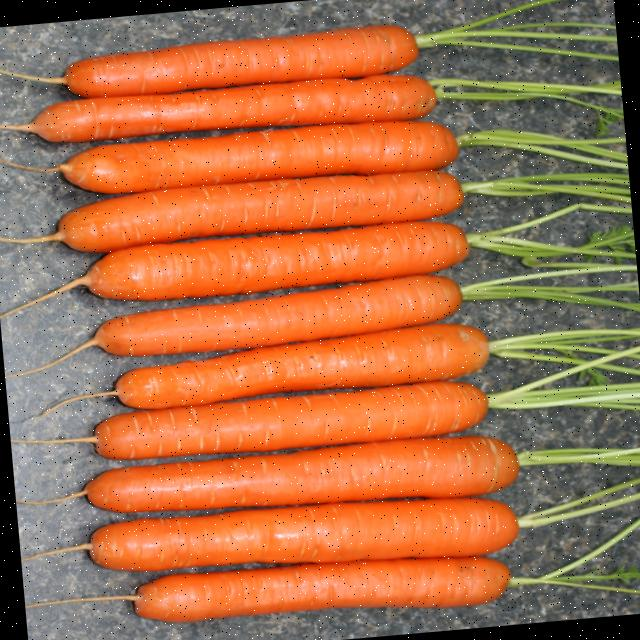carrot: (6, 275, 461, 377), (0, 221, 468, 316), (40, 323, 488, 414), (19, 436, 518, 512), (0, 170, 462, 252), (11, 381, 487, 459), (24, 497, 518, 570), (0, 121, 457, 193), (28, 556, 509, 622), (0, 25, 417, 98), (0, 75, 435, 141)
